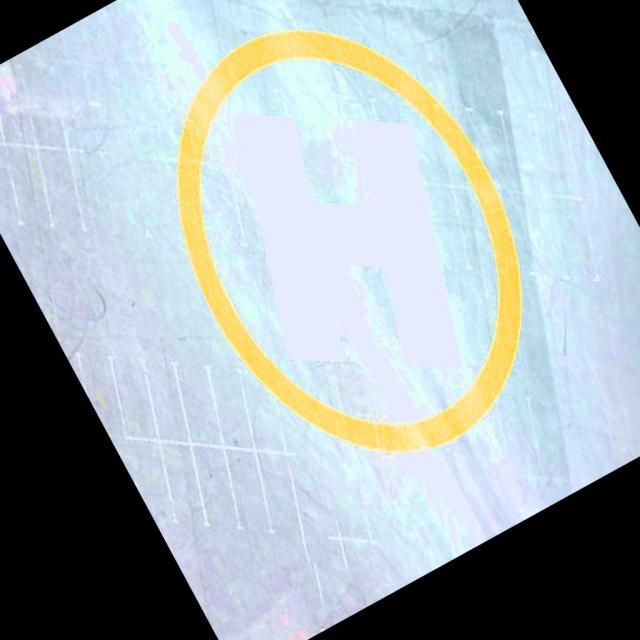helipad: (170, 23, 529, 458)
